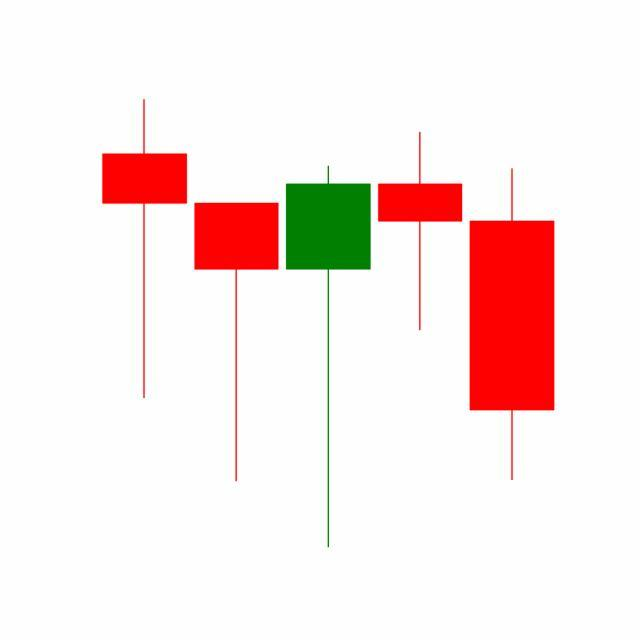Spinning Top: (374, 130, 468, 334)
